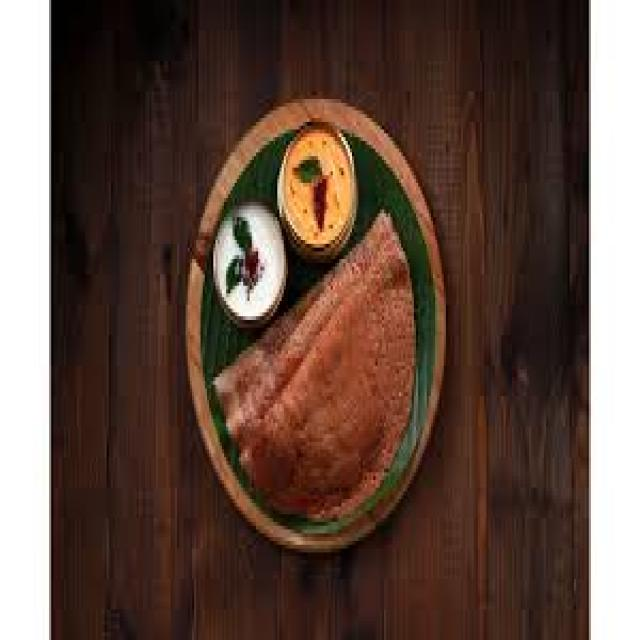DOSA: (218, 209, 414, 520)
